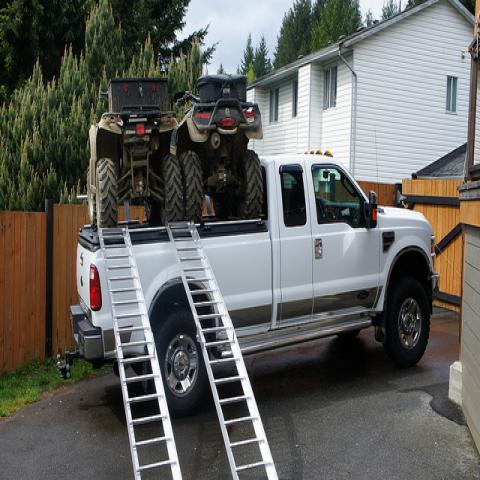truck: (69, 155, 438, 418)
